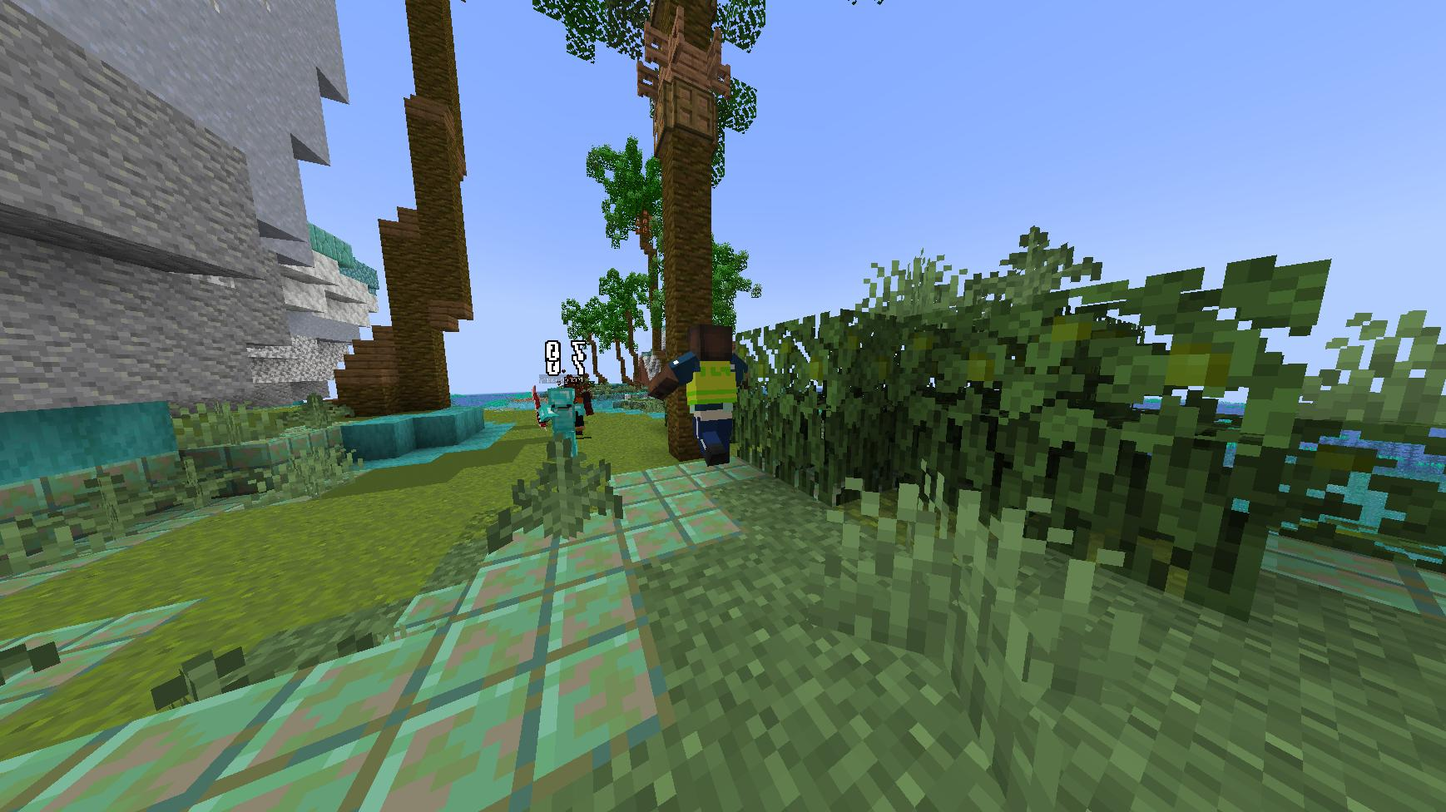Guardian: (650, 324, 748, 466)
